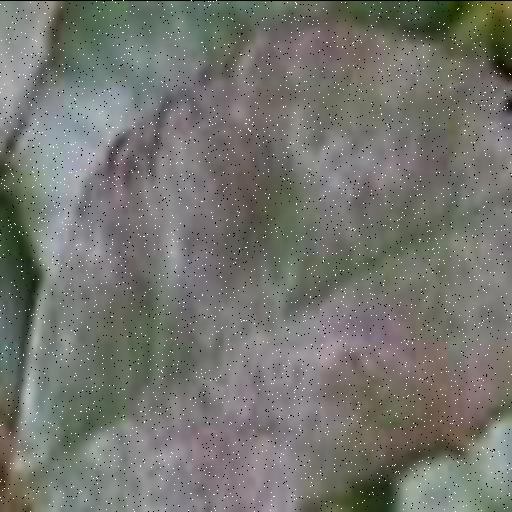powdery_mildew: (0, 18, 512, 512)
